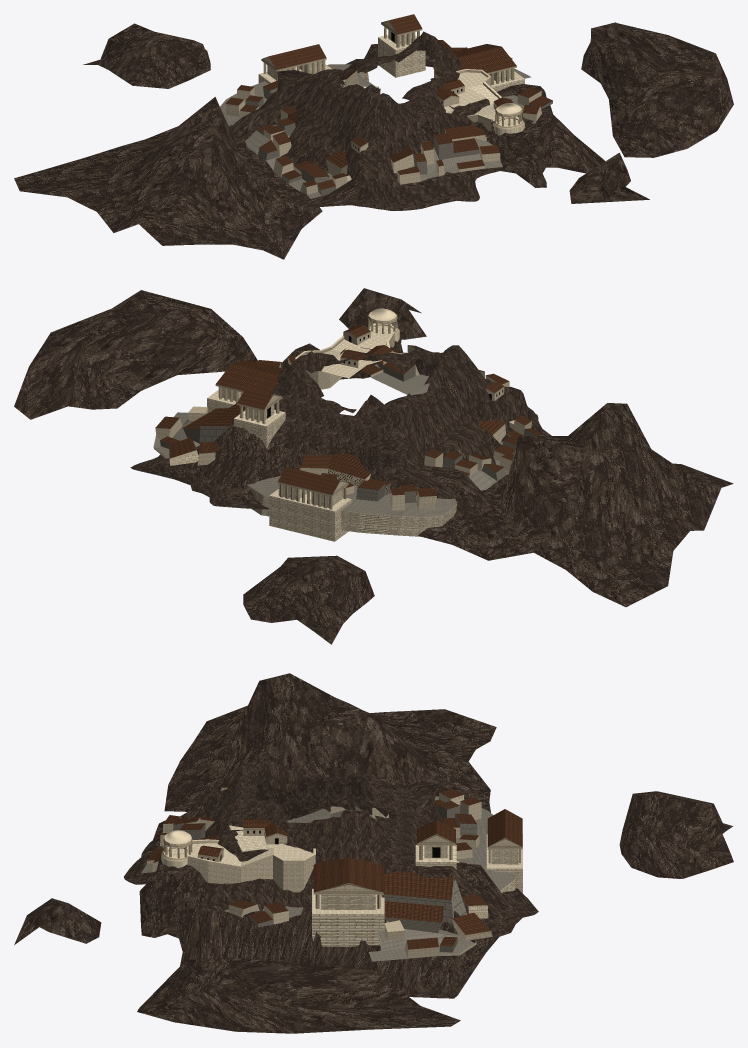
The model's file is Fondo.glb.
3 views of the same model, one above another, from view 1: azimuth 30°, elevation 25°; view 2: azimuth 150°, elevation 25°; view 3: azimuth 270°, elevation 25° (orthographic). The views are drawn at different scales.
Visible parts, largest first — view 1: Plano.002, Plano.001, Cubo.004, Cubo, Cubo.002, Cubo.010, Cubo.006, Plano, Cubo.011, Cubo.001, Cilindro.011, Cubo.008; view 2: Plano.002, Plano.001, Cubo.010, Cubo.011, Cubo.001, Cubo, Cubo.006, Cubo.002, Plano, Cubo.004, Cilindro.011; view 3: Plano.002, Plano.001, Cubo.001, Cubo.006, Plano, Cubo.010, Cubo.011, Cubo.002, Cubo.004, Cilindro.011, Cubo.008, Cubo.
Boxes of the visible parts, x1,y1,x2,y2 form: Plano.002: (14, 22, 733, 259); Plano.001: (229, 31, 605, 210); Cubo.004: (390, 124, 502, 184); Cubo: (245, 106, 351, 198); Cubo.002: (378, 14, 425, 77); Cubo.010: (220, 64, 378, 126); Cubo.006: (434, 44, 524, 91); Plano: (425, 69, 517, 130); Cubo.011: (258, 44, 331, 83); Cubo.001: (425, 40, 552, 123); Cilindro.011: (493, 103, 524, 135); Cubo.008: (436, 79, 464, 107); Plano.002: (14, 288, 733, 644); Plano.001: (130, 331, 551, 516); Cubo.010: (247, 452, 457, 536); Cubo.011: (269, 467, 351, 541); Cubo.001: (153, 356, 296, 465); Cubo: (424, 415, 544, 490); Cubo.006: (207, 360, 284, 412); Cubo.002: (234, 387, 285, 447); Plano: (294, 326, 403, 389); Cubo.004: (360, 345, 509, 395); Cilindro.011: (367, 308, 399, 341); Plano.002: (14, 673, 733, 1033); Plano.001: (124, 758, 538, 998); Cubo.001: (224, 871, 492, 961); Cubo.006: (312, 857, 384, 946); Plano: (187, 825, 315, 892); Cubo.010: (434, 788, 515, 892); Cubo.011: (486, 809, 522, 893); Cubo.002: (415, 820, 456, 869); Cubo.004: (141, 815, 219, 873); Cilindro.011: (161, 830, 192, 868); Cubo.008: (243, 819, 287, 844); Cubo: (287, 806, 388, 823).
Bounding box in the file's own units: 545 × 94.1 × 459.
13 materials, 13 textured.
